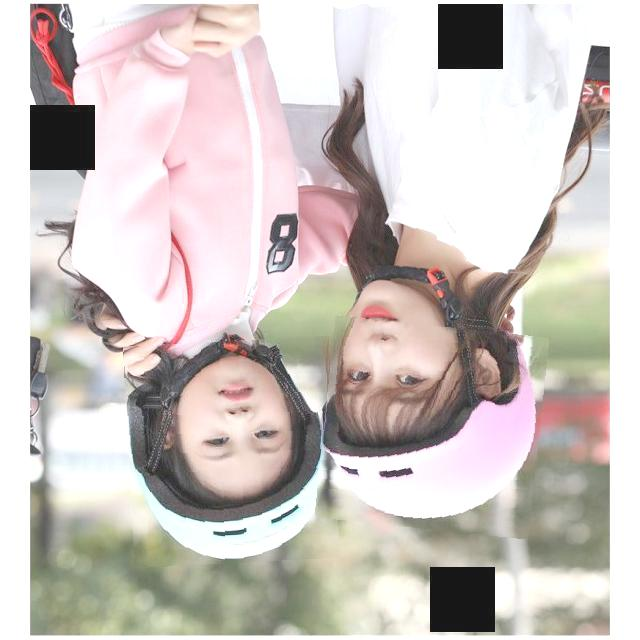helmet: (126, 338, 338, 566), (319, 321, 544, 534)
